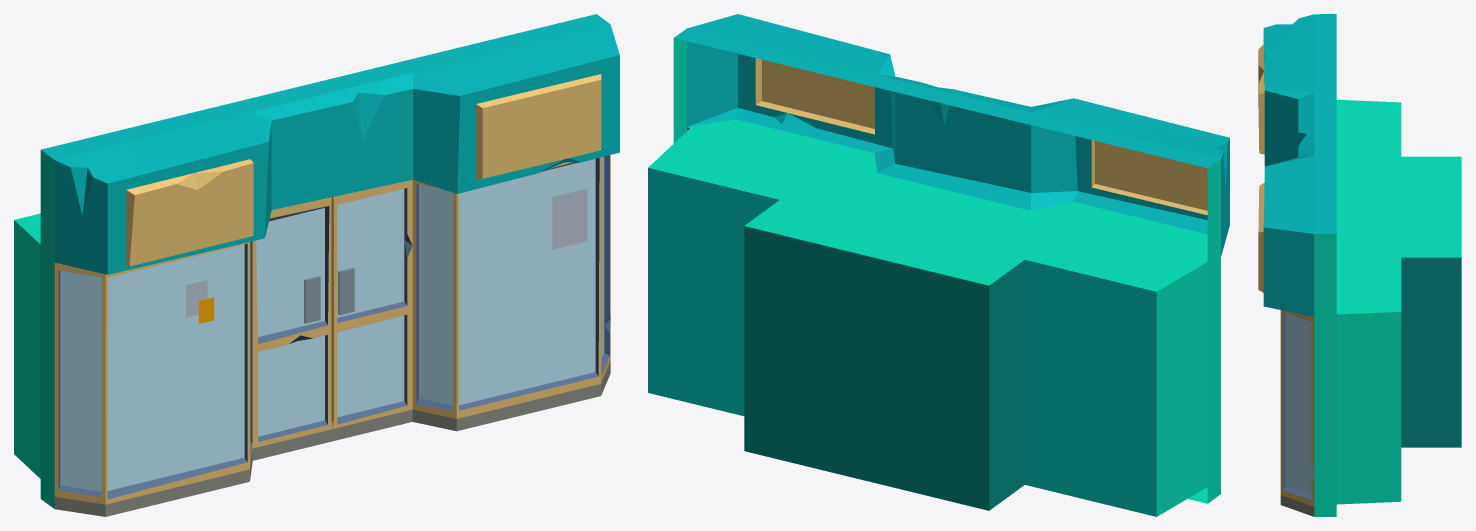
File: House_Front_02_edit.fbx
3 renders of one model, left to right at view 1: azimuth 30°, elevation 25°; view 2: azimuth 150°, elevation 25°; view 3: azimuth 270°, elevation 25°, orthographic. The views are drawn at different scales.
Parts seen in each view (by area): view 1: SM_Bld_Shop_01; view 2: SM_Bld_Shop_01; view 3: SM_Bld_Shop_01.
Boxes of the visible parts, x1,y1,x2,y2 form: SM_Bld_Shop_01: (14, 14, 619, 516); SM_Bld_Shop_01: (648, 14, 1229, 516); SM_Bld_Shop_01: (1258, 14, 1461, 516).
Size of the model in its own units: 500 by 300 by 195.
